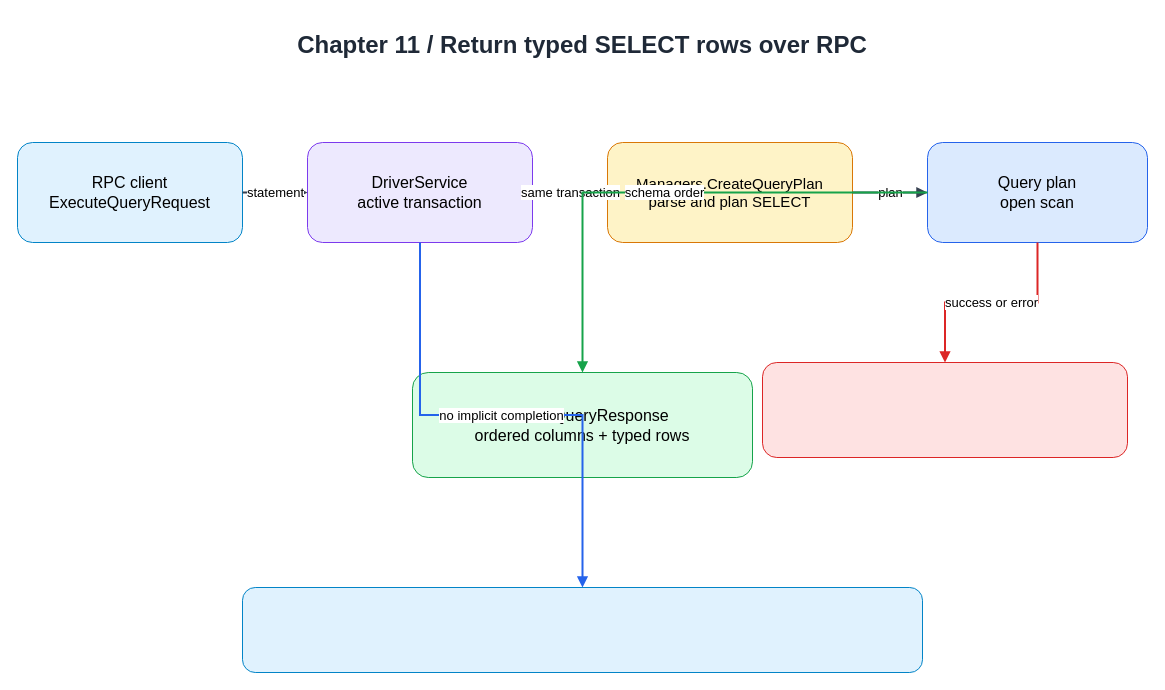
Some shapes in this 1165 by 690 pixel diagram are drawn without their labels. The shapes that lost their labels are listed below. From the top down, each one's box as (x1, y1, x2, y2) in pixels, then its label:
(762, 362, 1128, 458): Always close an opened scan Read or close errors return no partial rows
(242, 586, 922, 672): Session transaction remains active caller chooses Commit, Rollback, or Close
